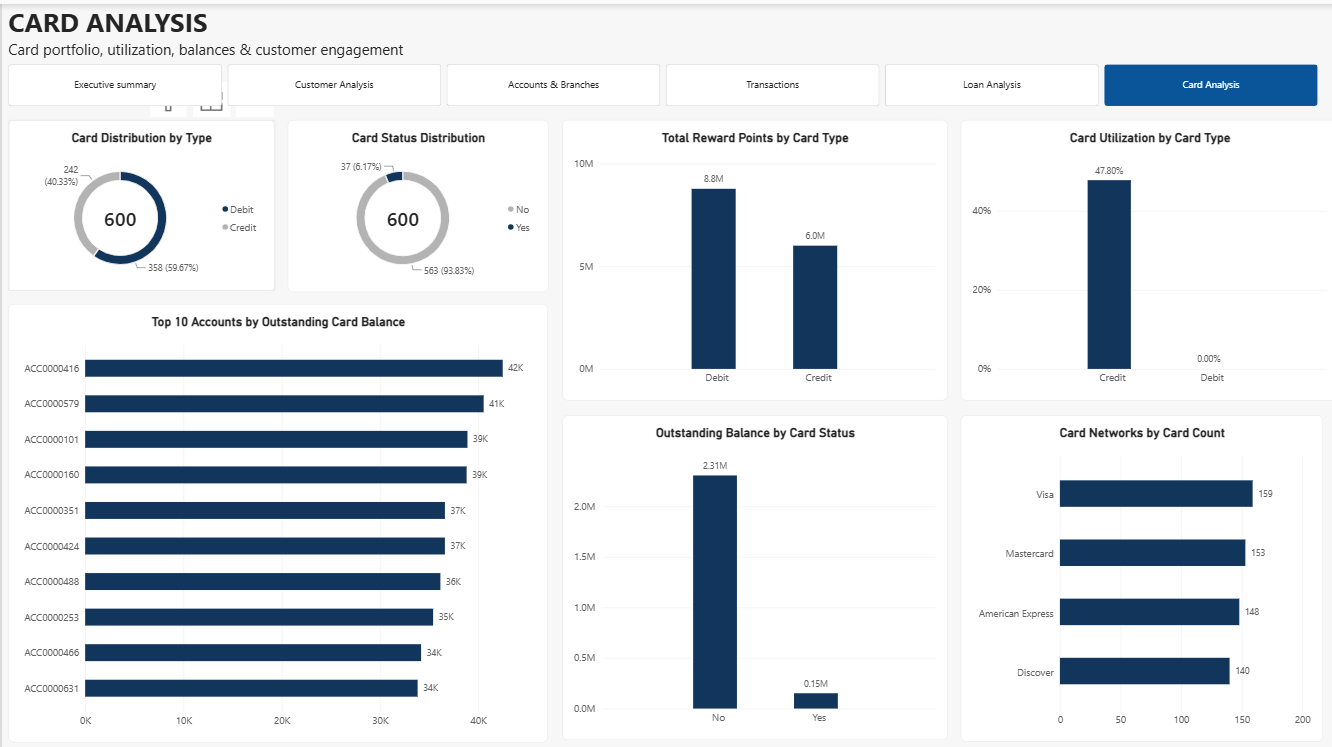

The page's visual inventory and layout, read from the dashboard file:
{"tool":"powerbi","page":{"name":"Card Analysis","canvas":[1920,1080],"ordinal":5},"visuals":[{"type":"donutChart","title":"Card Distribution by Type","fields":{"Category":["cards.card_type"],"Y":["cards.Total Cards"]},"box":[10.2,165.8,382.6,247.4],"z":0},{"type":"donutChart","title":"Card Status Distribution","fields":{"Category":["cards.is_active"],"Y":["cards.Total Cards"]},"box":[410.7,165.8,375,247.4],"z":1000},{"type":"clusteredColumnChart","title":"Outstanding Balance by Card Status","fields":{"Category":["cards.is_active"],"Y":["Sum(cards.outstanding_balance)"]},"box":[806.1,591.8,553.5,466.8],"z":2000},{"type":"clusteredBarChart","title":"Top 10 Accounts by Outstanding Card Balance","fields":{"Category":["cards.account_id"],"Y":["Sum(cards.outstanding_balance)"]},"box":[10.2,431.1,775.5,630.1],"z":3000},{"type":"clusteredBarChart","title":"Card Networks by Card Count","fields":{"Category":["cards.network"],"Y":["cards.Total Cards"]},"box":[1377.5,591.8,520.4,469.4],"z":4000},{"type":"clusteredColumnChart","title":"Total Reward Points by Card Type","fields":{"Category":["cards.card_type"],"Y":["Sum(cards.reward_points)"]},"box":[806.1,165.8,553.5,403],"z":5000},{"type":"columnChart","title":"Card Utilization by Card Type","fields":{"Category":["cards.card_type"],"Y":["cards.Card Utilization"]},"box":[1377.5,165.8,543.3,403],"z":6000},{"type":"textbox","box":[10.2,0,619.9,86.7],"z":7000},{"type":"pageNavigator","box":[10.2,86.7,1887.6,60],"z":8000}]}

Visuals, with their boxes in screenshot pixels (x1, y1, x2, y2), scaled from the page's 1920x1080 canvas onto the 1332x747 screenshot:
"Card Distribution by Type" donutChart: select_region(7, 115, 273, 286)
"Card Status Distribution" donutChart: select_region(285, 115, 545, 286)
"Outstanding Balance by Card Status" clusteredColumnChart: select_region(559, 409, 943, 732)
"Top 10 Accounts by Outstanding Card Balance" clusteredBarChart: select_region(7, 298, 545, 734)
"Card Networks by Card Count" clusteredBarChart: select_region(956, 409, 1317, 734)
"Total Reward Points by Card Type" clusteredColumnChart: select_region(559, 115, 943, 393)
"Card Utilization by Card Type" columnChart: select_region(956, 115, 1331, 393)
textbox: select_region(7, 0, 437, 60)
pageNavigator: select_region(7, 60, 1317, 101)
